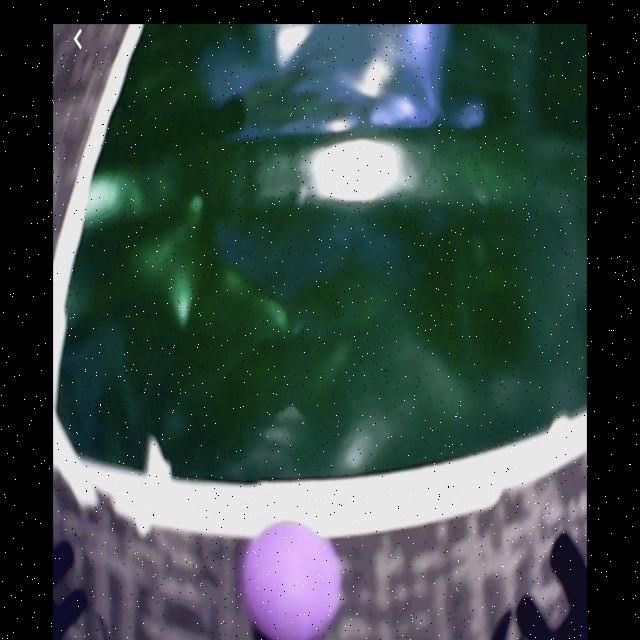ball: (245, 520, 338, 640)
